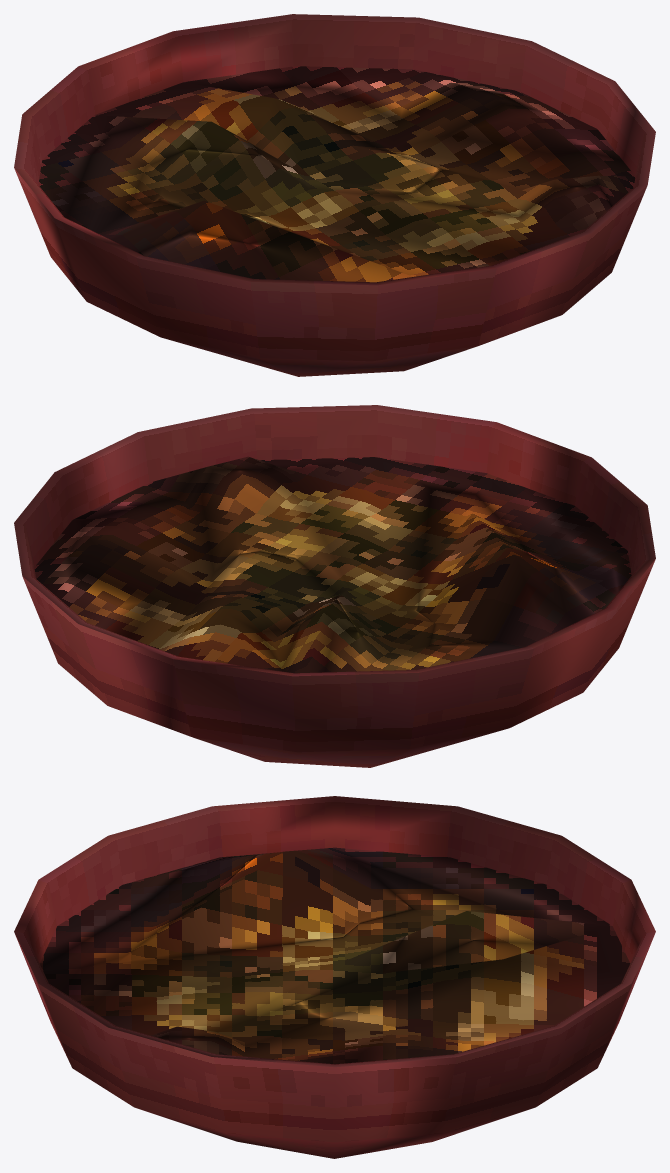
The model's file is characters-99255c9a.glb.
The picture shows the model from 3 angles, top to bottom: view 1: azimuth 30°, elevation 25°; view 2: azimuth 150°, elevation 25°; view 3: azimuth 270°, elevation 25°; orthographic projection.
Visible parts, largest first — view 1: NOODLEBOWL001_A; view 2: NOODLEBOWL001_A; view 3: NOODLEBOWL001_A.
Part boxes in pixels (x1,y1,x2,y2): NOODLEBOWL001_A: (14,14,655,376); NOODLEBOWL001_A: (14,405,655,767); NOODLEBOWL001_A: (14,796,655,1158).
Bounding box in the file's own units: 0.2055 × 0.0614 × 0.2055.
Materials: 1 (1 with a texture image).
